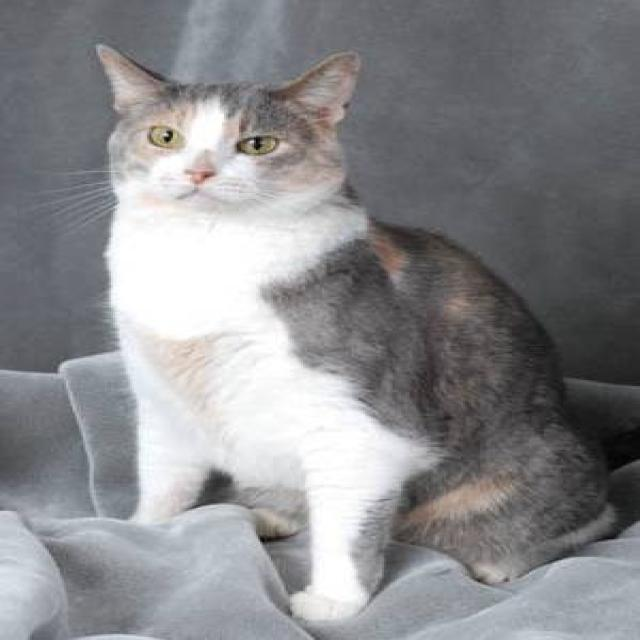cat: (36, 42, 623, 620)
